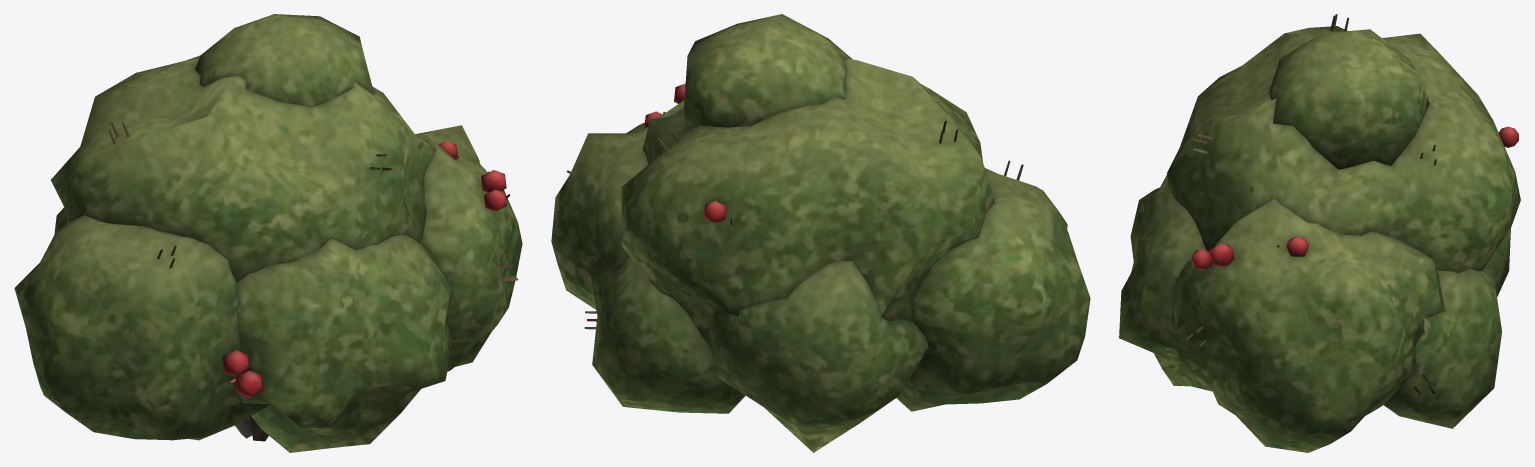
The model's file is fm_berry_bush_picked.glb.
3 renders of one model, left to right at view 1: azimuth 30°, elevation 25°; view 2: azimuth 150°, elevation 25°; view 3: azimuth 270°, elevation 25°, orthographic. The views are drawn at different scales.
Parts seen in each view (by area): view 1: fm_berry_bush_picked; view 2: fm_berry_bush_picked; view 3: fm_berry_bush_picked.
Boxes of the visible parts, box(x1,y1,x2,y2) form: fm_berry_bush_picked: box(14, 14, 522, 452); fm_berry_bush_picked: box(551, 14, 1090, 452); fm_berry_bush_picked: box(1119, 14, 1520, 452).
Size of the model in its own units: 0.7498 by 0.5953 by 0.5554.
2 materials, 2 textured.
